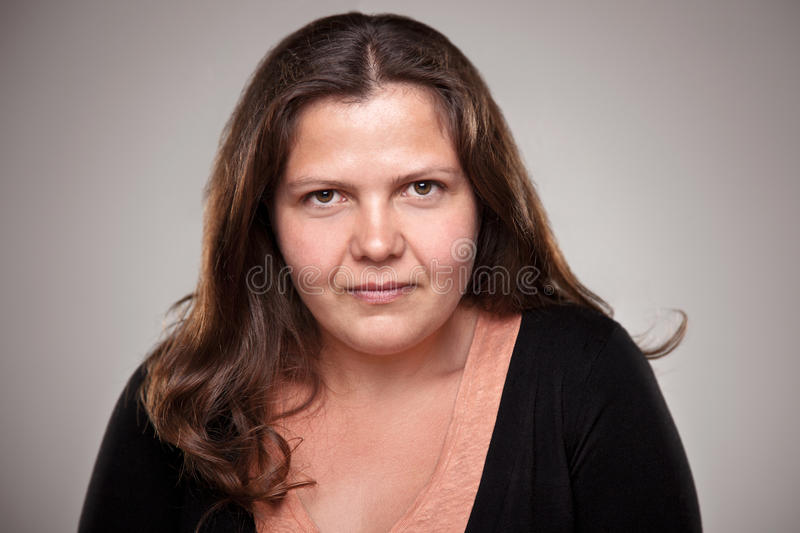NoMask: (283, 161, 468, 358)
